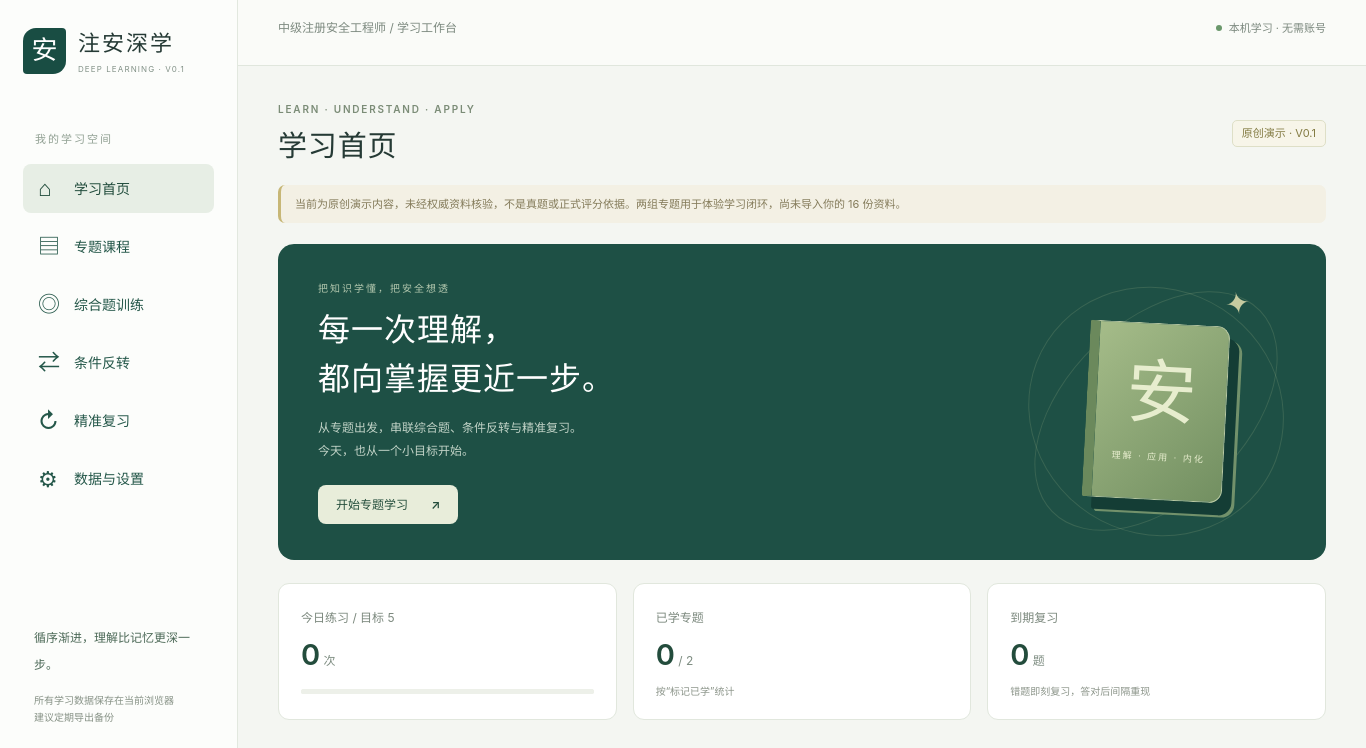
Test: 用户学习流程 › 条件反转展示变化条件，正确练习后安排后续复习
The width and height of the screenshot is (1366, 748).
Click the button "⇄ 条件反转" at (118, 362), box [23, 338, 214, 387]
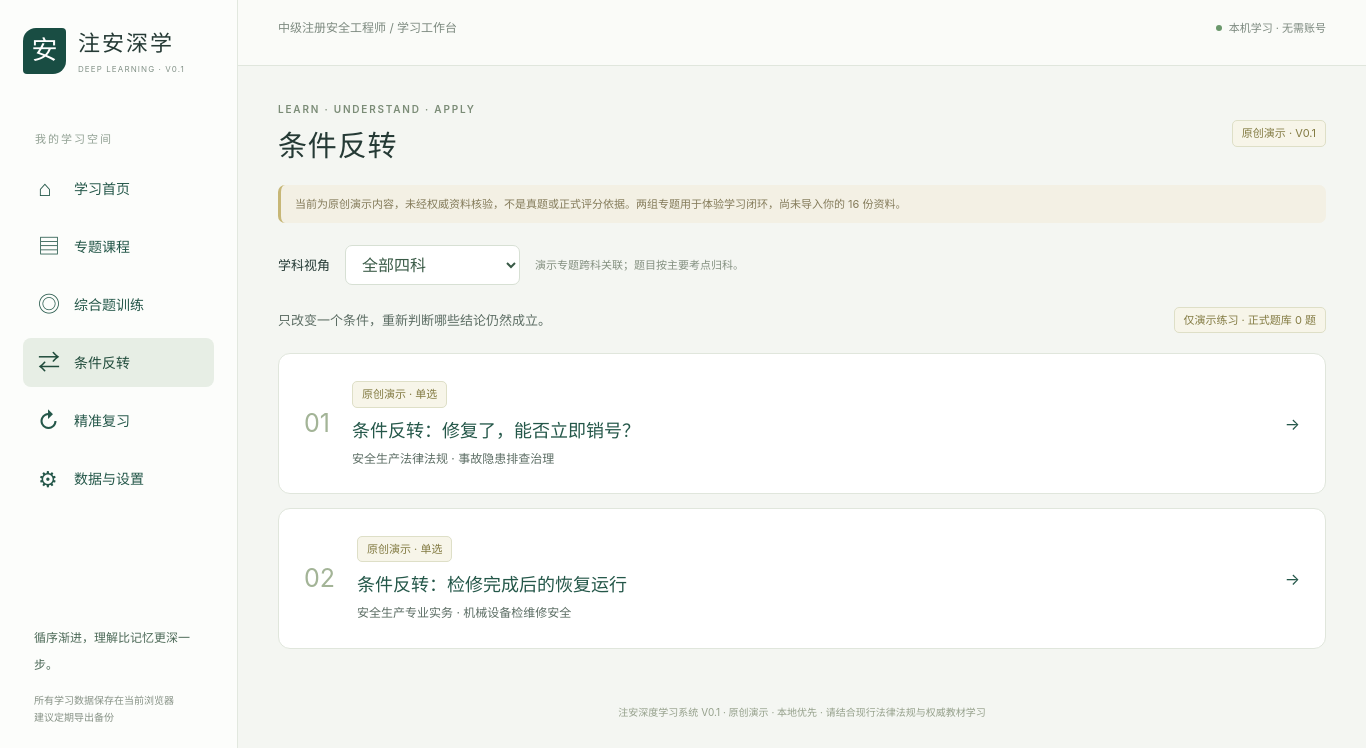
Click the button "01 原创演示 · 单选 条件反转：修复了，能否立即销号？ 安全生产法律法规 · 事故隐患排查治理 →" at (400, 394), box [278, 353, 1326, 494]
(page scrolled)
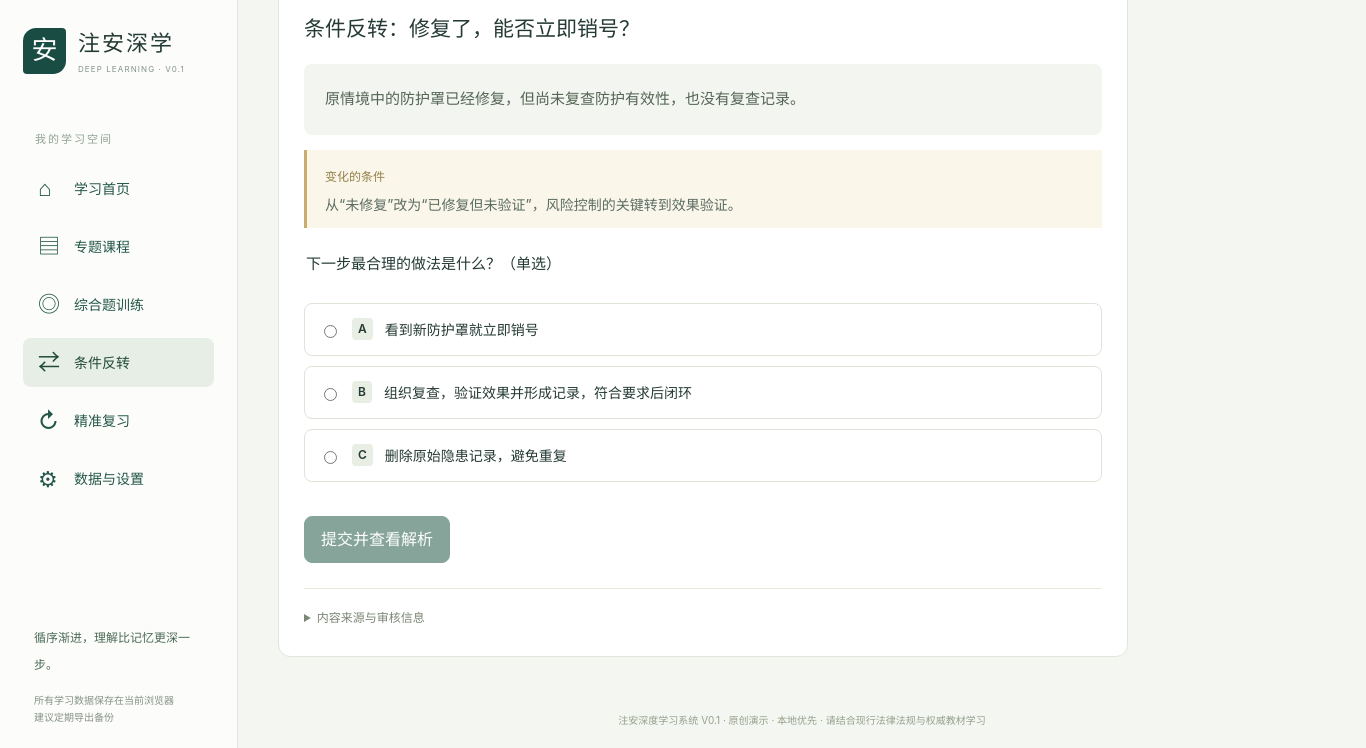
Expected: the text "变化的条件" is shown, [325, 169, 385, 184]
Click the radio button labelled "B 组织复查，验证效果并形成记录，符合要求后闭环" at (330, 394), box [324, 388, 337, 401]
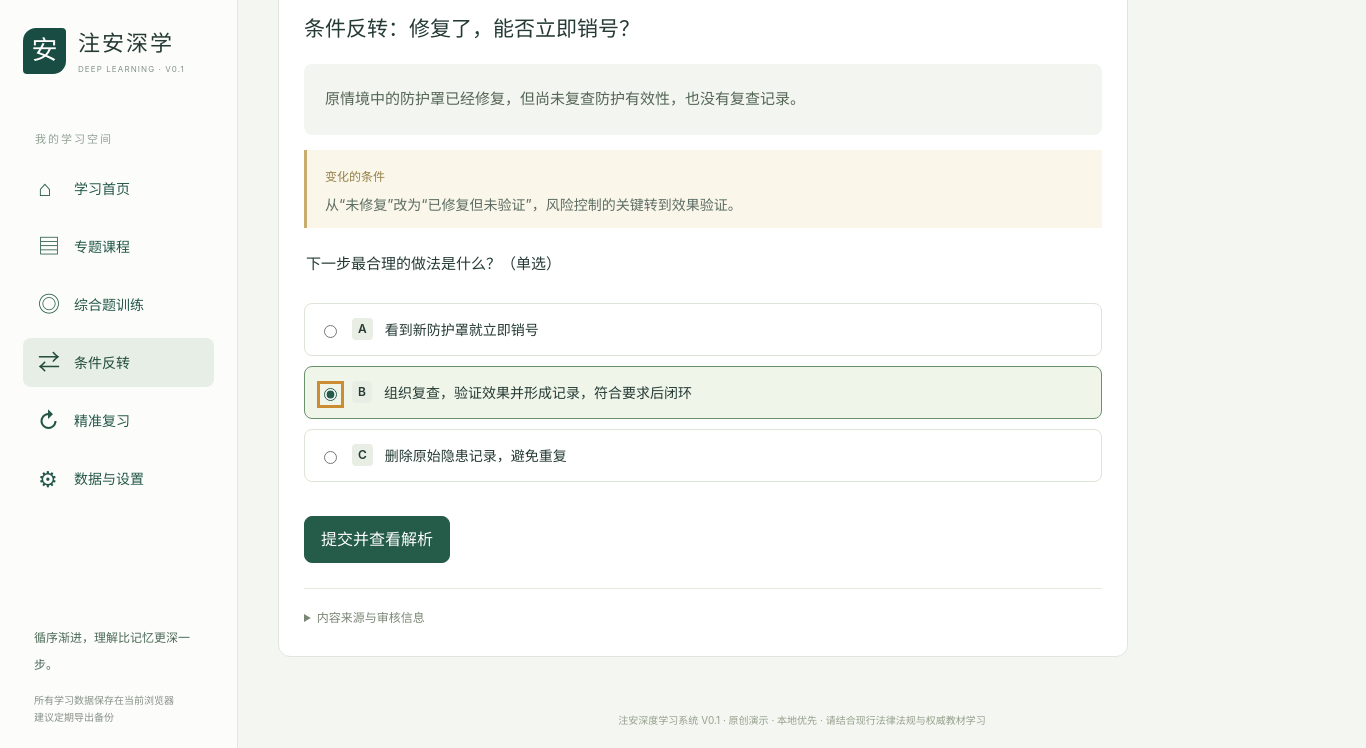
Click the button "提交并查看解析" at (377, 539), box [304, 516, 450, 563]
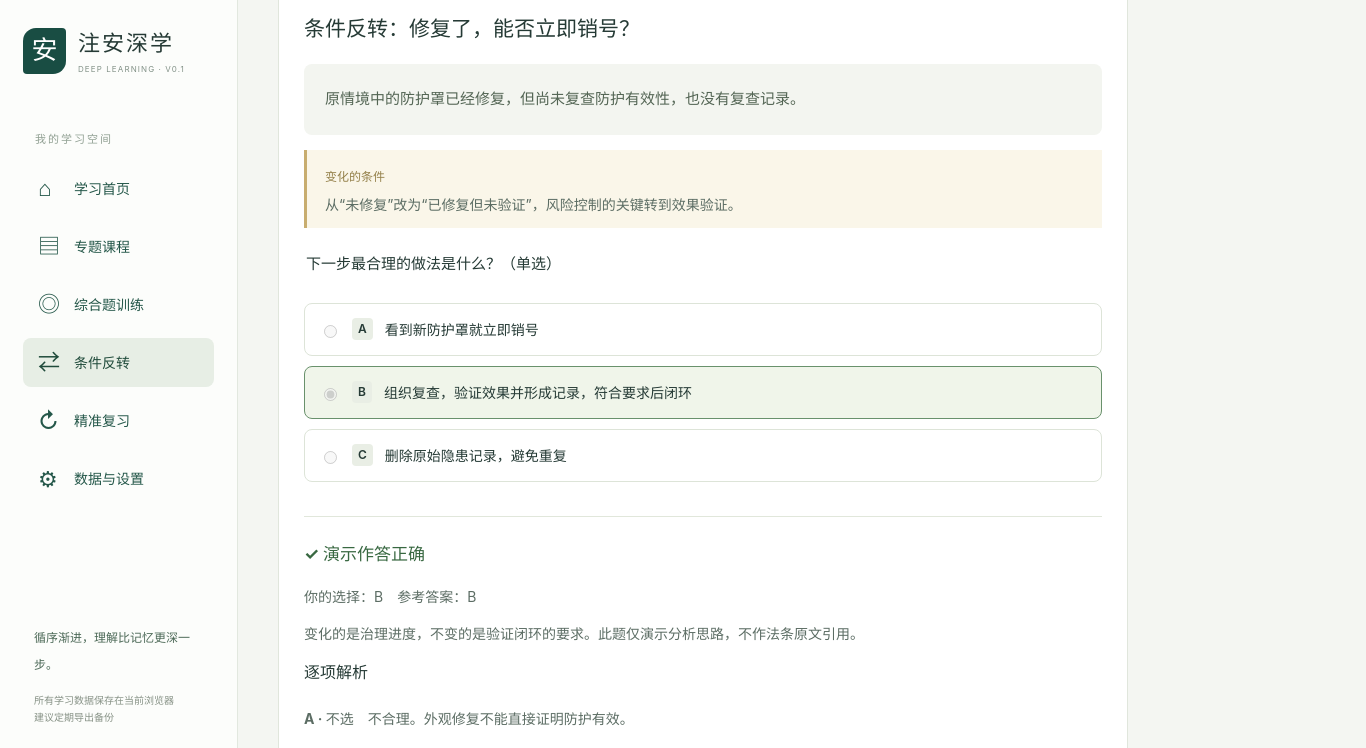
Expected: the heading "✓ 演示作答正确" is shown, [304, 544, 425, 564]
